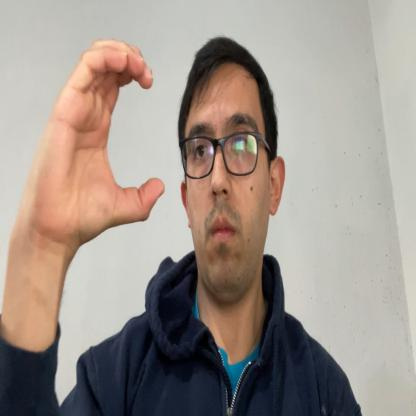C: (49, 38, 165, 243)
